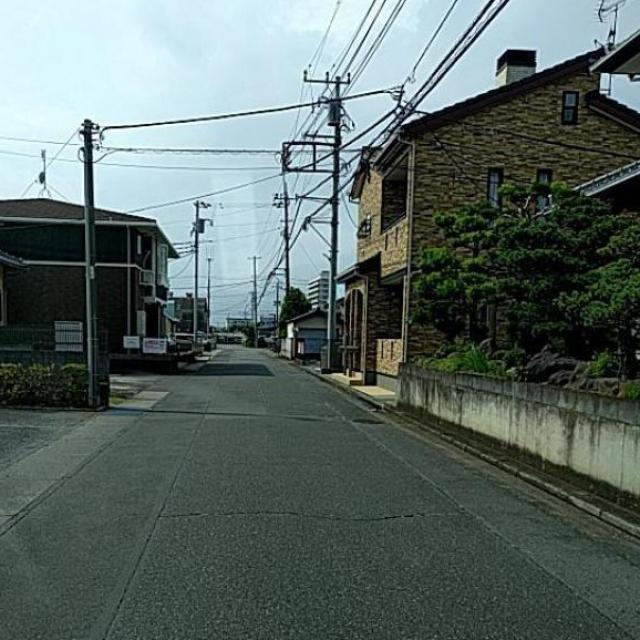Melintang: (101, 497, 446, 532)
Memanjang: (84, 406, 215, 640)
